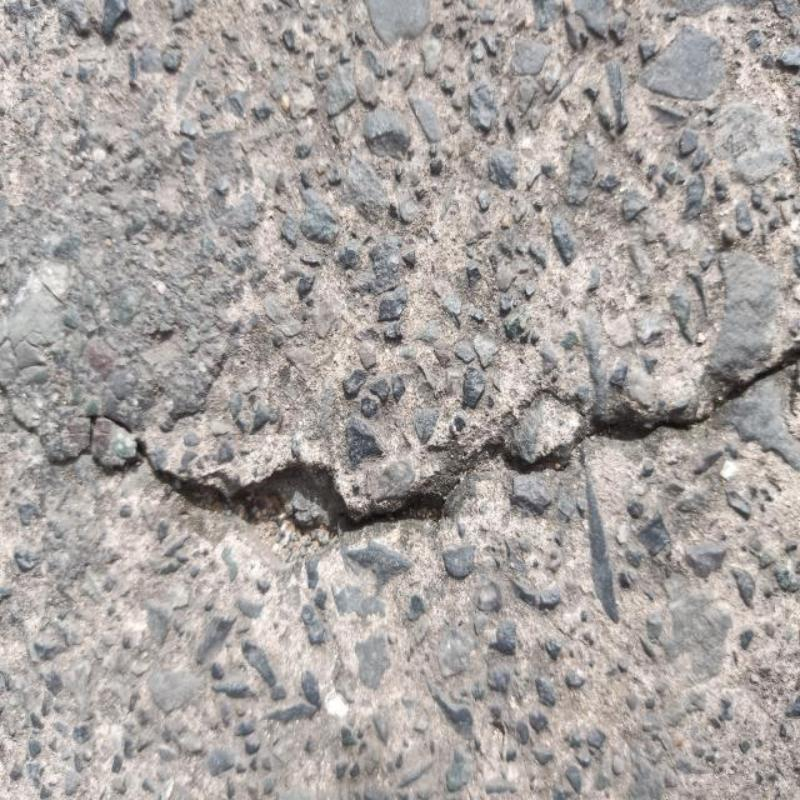pothole: (149, 338, 799, 529)
